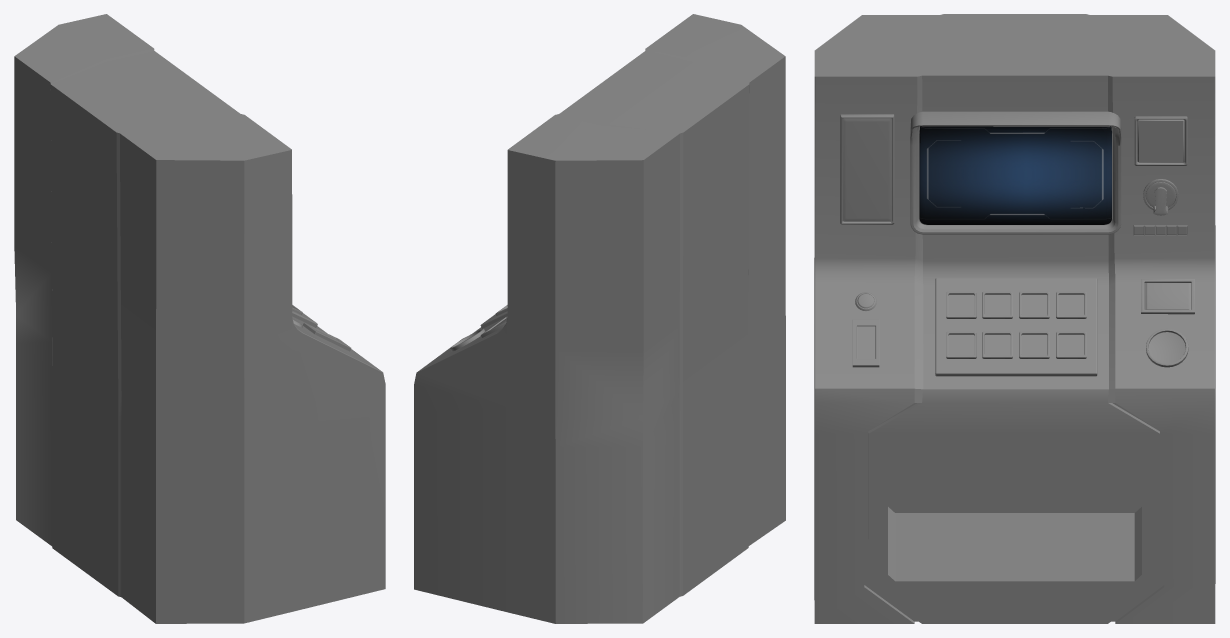
Rendered from ComputerSafe.fbx.
3 views of the same model, side by side, from view 1: azimuth 30°, elevation 25°; view 2: azimuth 150°, elevation 25°; view 3: azimuth 270°, elevation 25° (orthographic). The views are drawn at different scales.
Parts seen in each view (by area): view 1: Computer_Base.009; view 2: Computer_Base.009; view 3: Computer_Base.009.
Part boxes in pixels (left/top/right/bottom): Computer_Base.009: left=14, top=14, right=385, bottom=623; Computer_Base.009: left=414, top=14, right=785, bottom=623; Computer_Base.009: left=814, top=14, right=1215, bottom=623.
Size of the model in its own units: 173 by 238 by 112.
